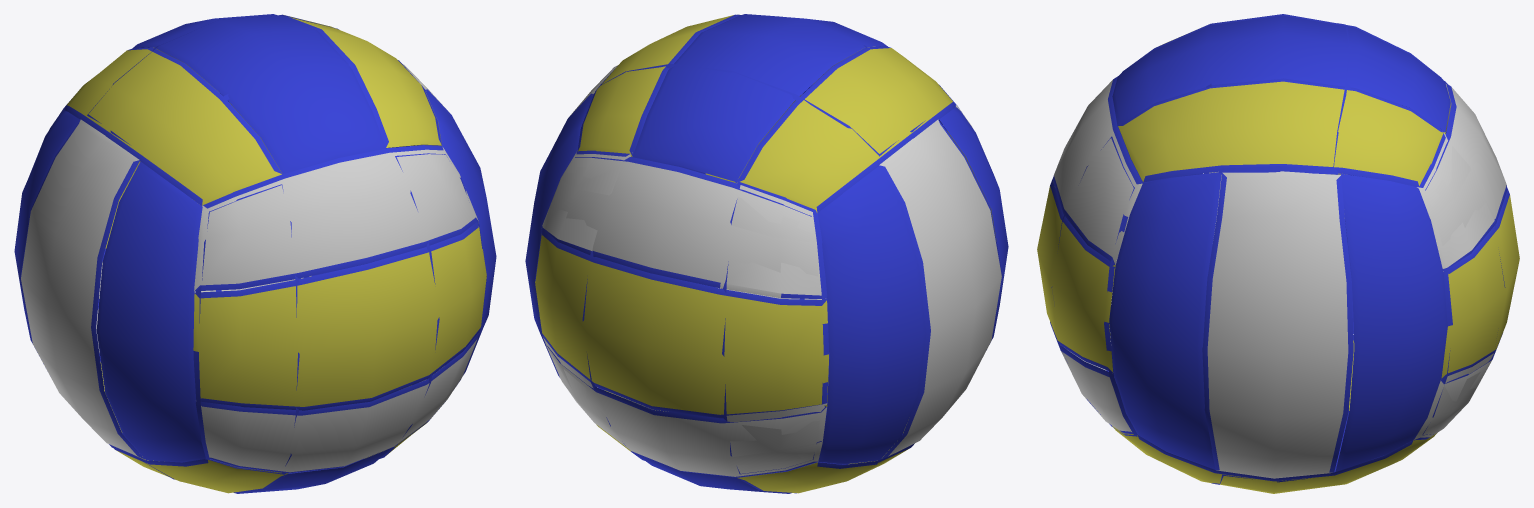
The model's file is volleyball.fbx.
3 renders of one model, left to right at view 1: azimuth 30°, elevation 25°; view 2: azimuth 150°, elevation 25°; view 3: azimuth 270°, elevation 25°, orthographic.
Visible parts, largest first — view 1: Volleyball; view 2: Volleyball; view 3: Volleyball.
Part boxes in pixels (x1=…): Volleyball: x1=14, y1=14, x2=496, y2=493; Volleyball: x1=525, y1=14, x2=1008, y2=493; Volleyball: x1=1037, y1=14, x2=1519, y2=493.
Size of the model in its own units: 0.8401 by 0.84 by 0.8399.
